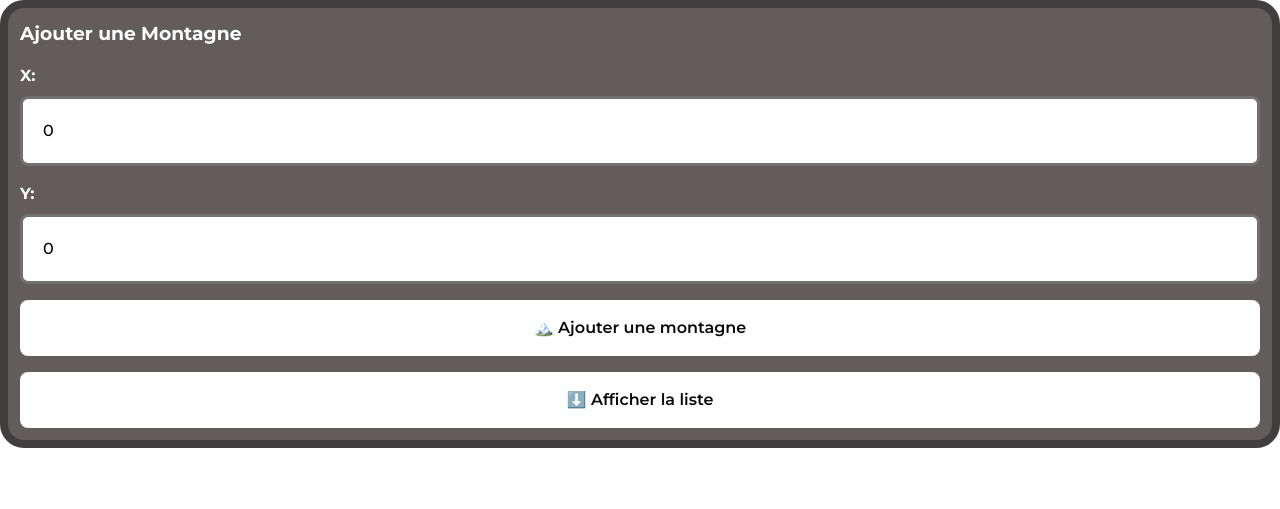
Scenario: MontainForm › -> Affiche la liste des montagnes après avoir cliqué sur Afficher la liste.
The width and height of the screenshot is (1280, 509).
expect the text "Liste des Montagnes" is not shown: met
Click the button with test id "mountain-toggle-list-button" at [640, 400], box [20,372,1260,428]
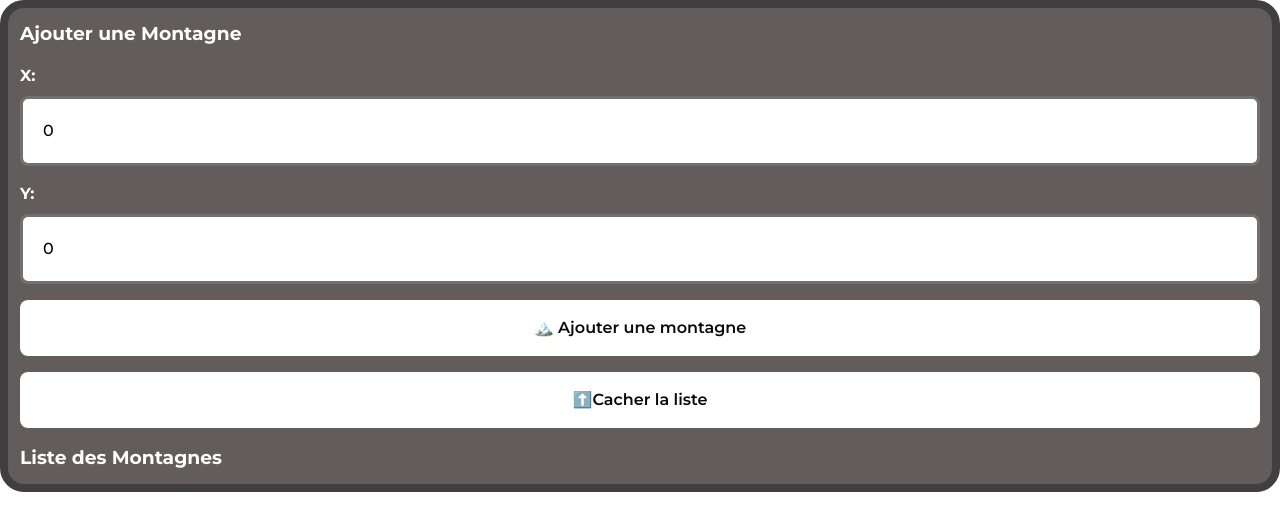
expect the heading "Liste des Montagnes" is shown: met, box [20,444,222,472]
Click the button with test id "mountain-toggle-list-button" at [640, 400], box [20,372,1260,428]
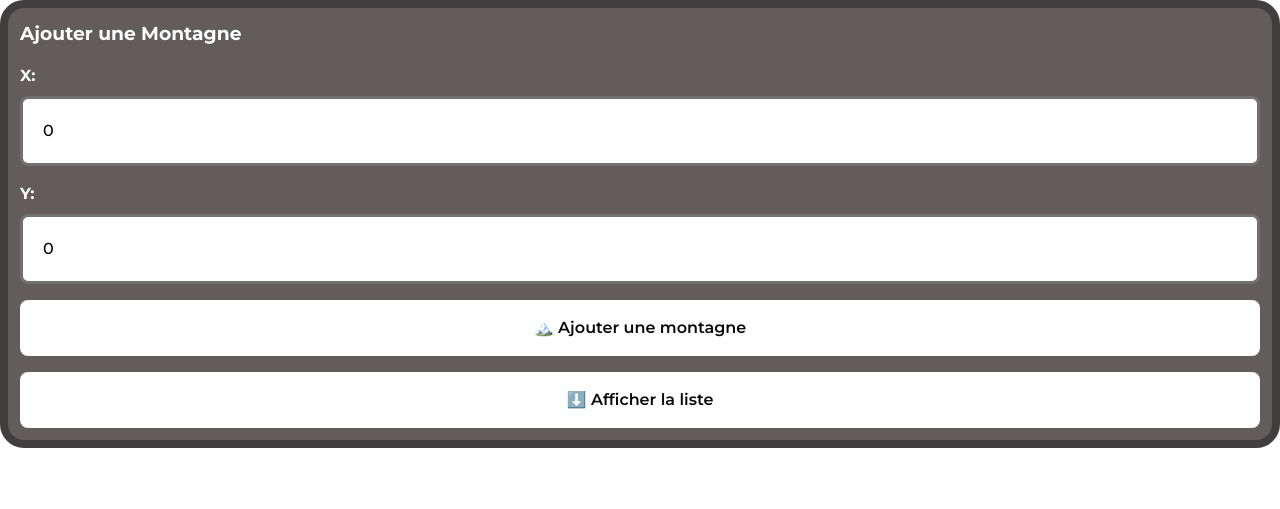
expect the heading "Liste des Montagnes" is gone: met
